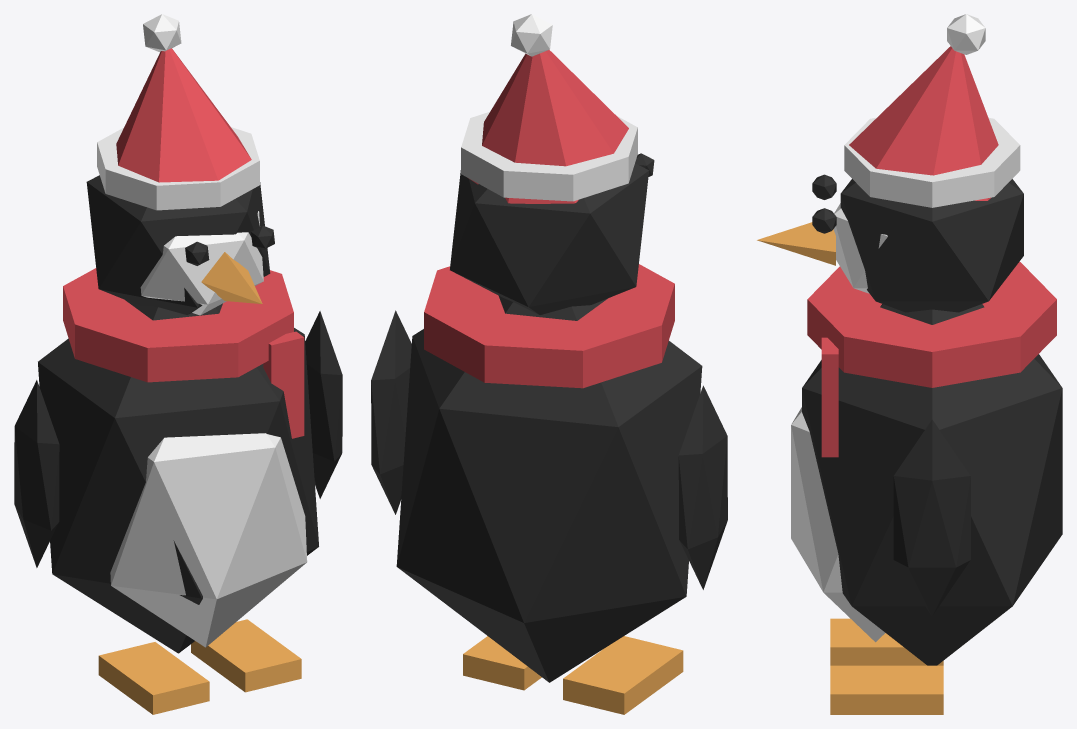
File: Pinguino.fbx
3 views of the same model, side by side, from view 1: azimuth 30°, elevation 25°; view 2: azimuth 150°, elevation 25°; view 3: azimuth 270°, elevation 25° (orthographic). The views are drawn at different scales.
Visible parts, largest first — view 1: Cuerpo, Panza, Bufanda, Gorro, Cabeza, AletaI, BordeGorro, PataI, Cara, AletaD, PataD, PuntaBufanda (+2 smaller); view 2: Cuerpo, Bufanda, Cabeza, Gorro, BordeGorro, AletaI, PataI, AletaD, PataD, Borla; view 3: Cuerpo, Bufanda, Cabeza, Gorro, AletaD, BordeGorro, Panza, PataD, PataI, PuntaBufanda, Pico, Cara (+3 smaller).
Part boxes in pixels (x1,y1,x2,y2): Cuerpo: (38, 300, 318, 653); Panza: (110, 433, 307, 647); Bufanda: (63, 268, 293, 382); Gorro: (116, 48, 251, 182); Cabeza: (86, 175, 270, 314); AletaI: (14, 380, 59, 567); BordeGorro: (97, 127, 259, 210); PataI: (98, 642, 209, 714); Cara: (140, 211, 263, 315); AletaD: (305, 311, 342, 498); PataD: (191, 619, 301, 692); PuntaBufanda: (263, 331, 304, 438); Cuerpo: (396, 295, 702, 682); Bufanda: (424, 264, 674, 388); Cabeza: (450, 163, 649, 314); Gorro: (468, 50, 628, 203); BordeGorro: (461, 112, 637, 201); AletaI: (678, 385, 727, 589); PataI: (563, 636, 683, 714); AletaD: (371, 310, 411, 514); PataD: (463, 636, 541, 690); Borla: (511, 14, 552, 56); Cuerpo: (802, 304, 1062, 665); Bufanda: (807, 262, 1056, 387); Cabeza: (840, 179, 1023, 312); Gorro: (849, 46, 998, 200); AletaD: (893, 419, 970, 616); BordeGorro: (844, 117, 1020, 207); Panza: (791, 407, 885, 642); PataD: (830, 665, 943, 714); PataI: (830, 618, 943, 665); PuntaBufanda: (821, 337, 838, 457); Pico: (757, 222, 835, 265); Cara: (833, 203, 887, 293).
Bounding box in the file's own units: 0.6592 × 1.29 × 0.5397.
